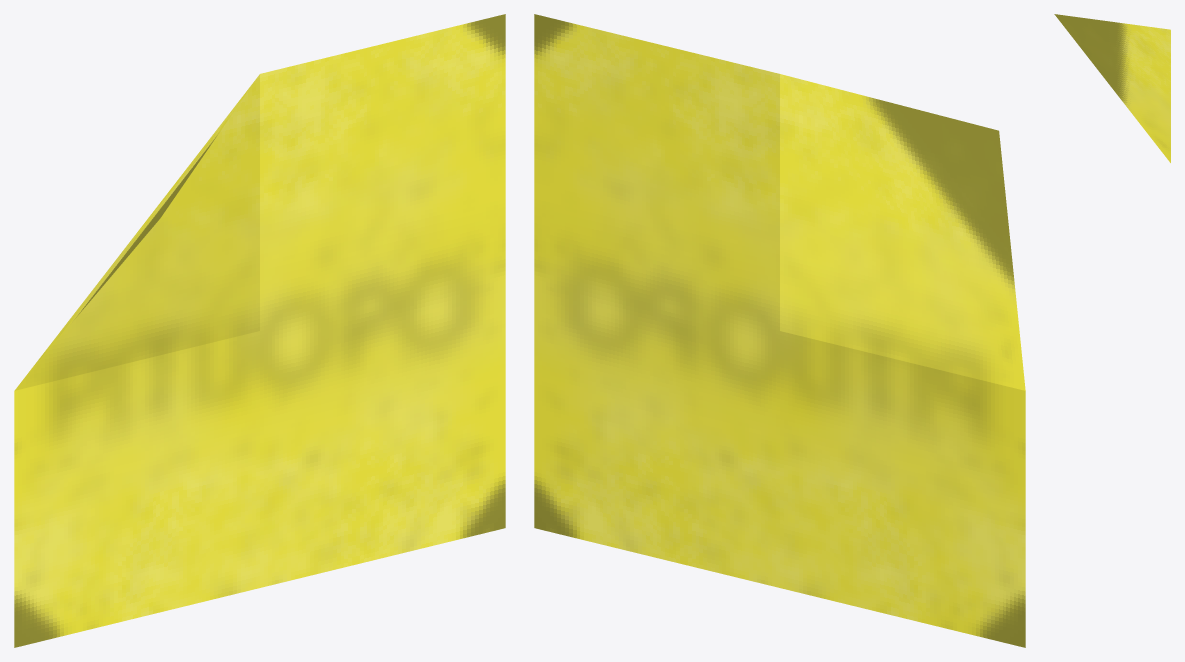
Rendered from post-it.glb.
The picture shows the model from 3 angles, left to right: view 1: azimuth 30°, elevation 25°; view 2: azimuth 150°, elevation 25°; view 3: azimuth 270°, elevation 25°; orthographic projection. The views are drawn at different scales.
Parts seen in each view (by area): view 1: Plane; view 2: Plane; view 3: Plane.
Boxes of the visible parts, bbox=[...] form: Plane: bbox=[14, 14, 505, 647]; Plane: bbox=[534, 14, 1025, 647]; Plane: bbox=[1054, 14, 1170, 162].
Bounding box in the file's own units: 0.2528 × 0.2528 × 0.0533.
Materials: 1 (1 with a texture image).
